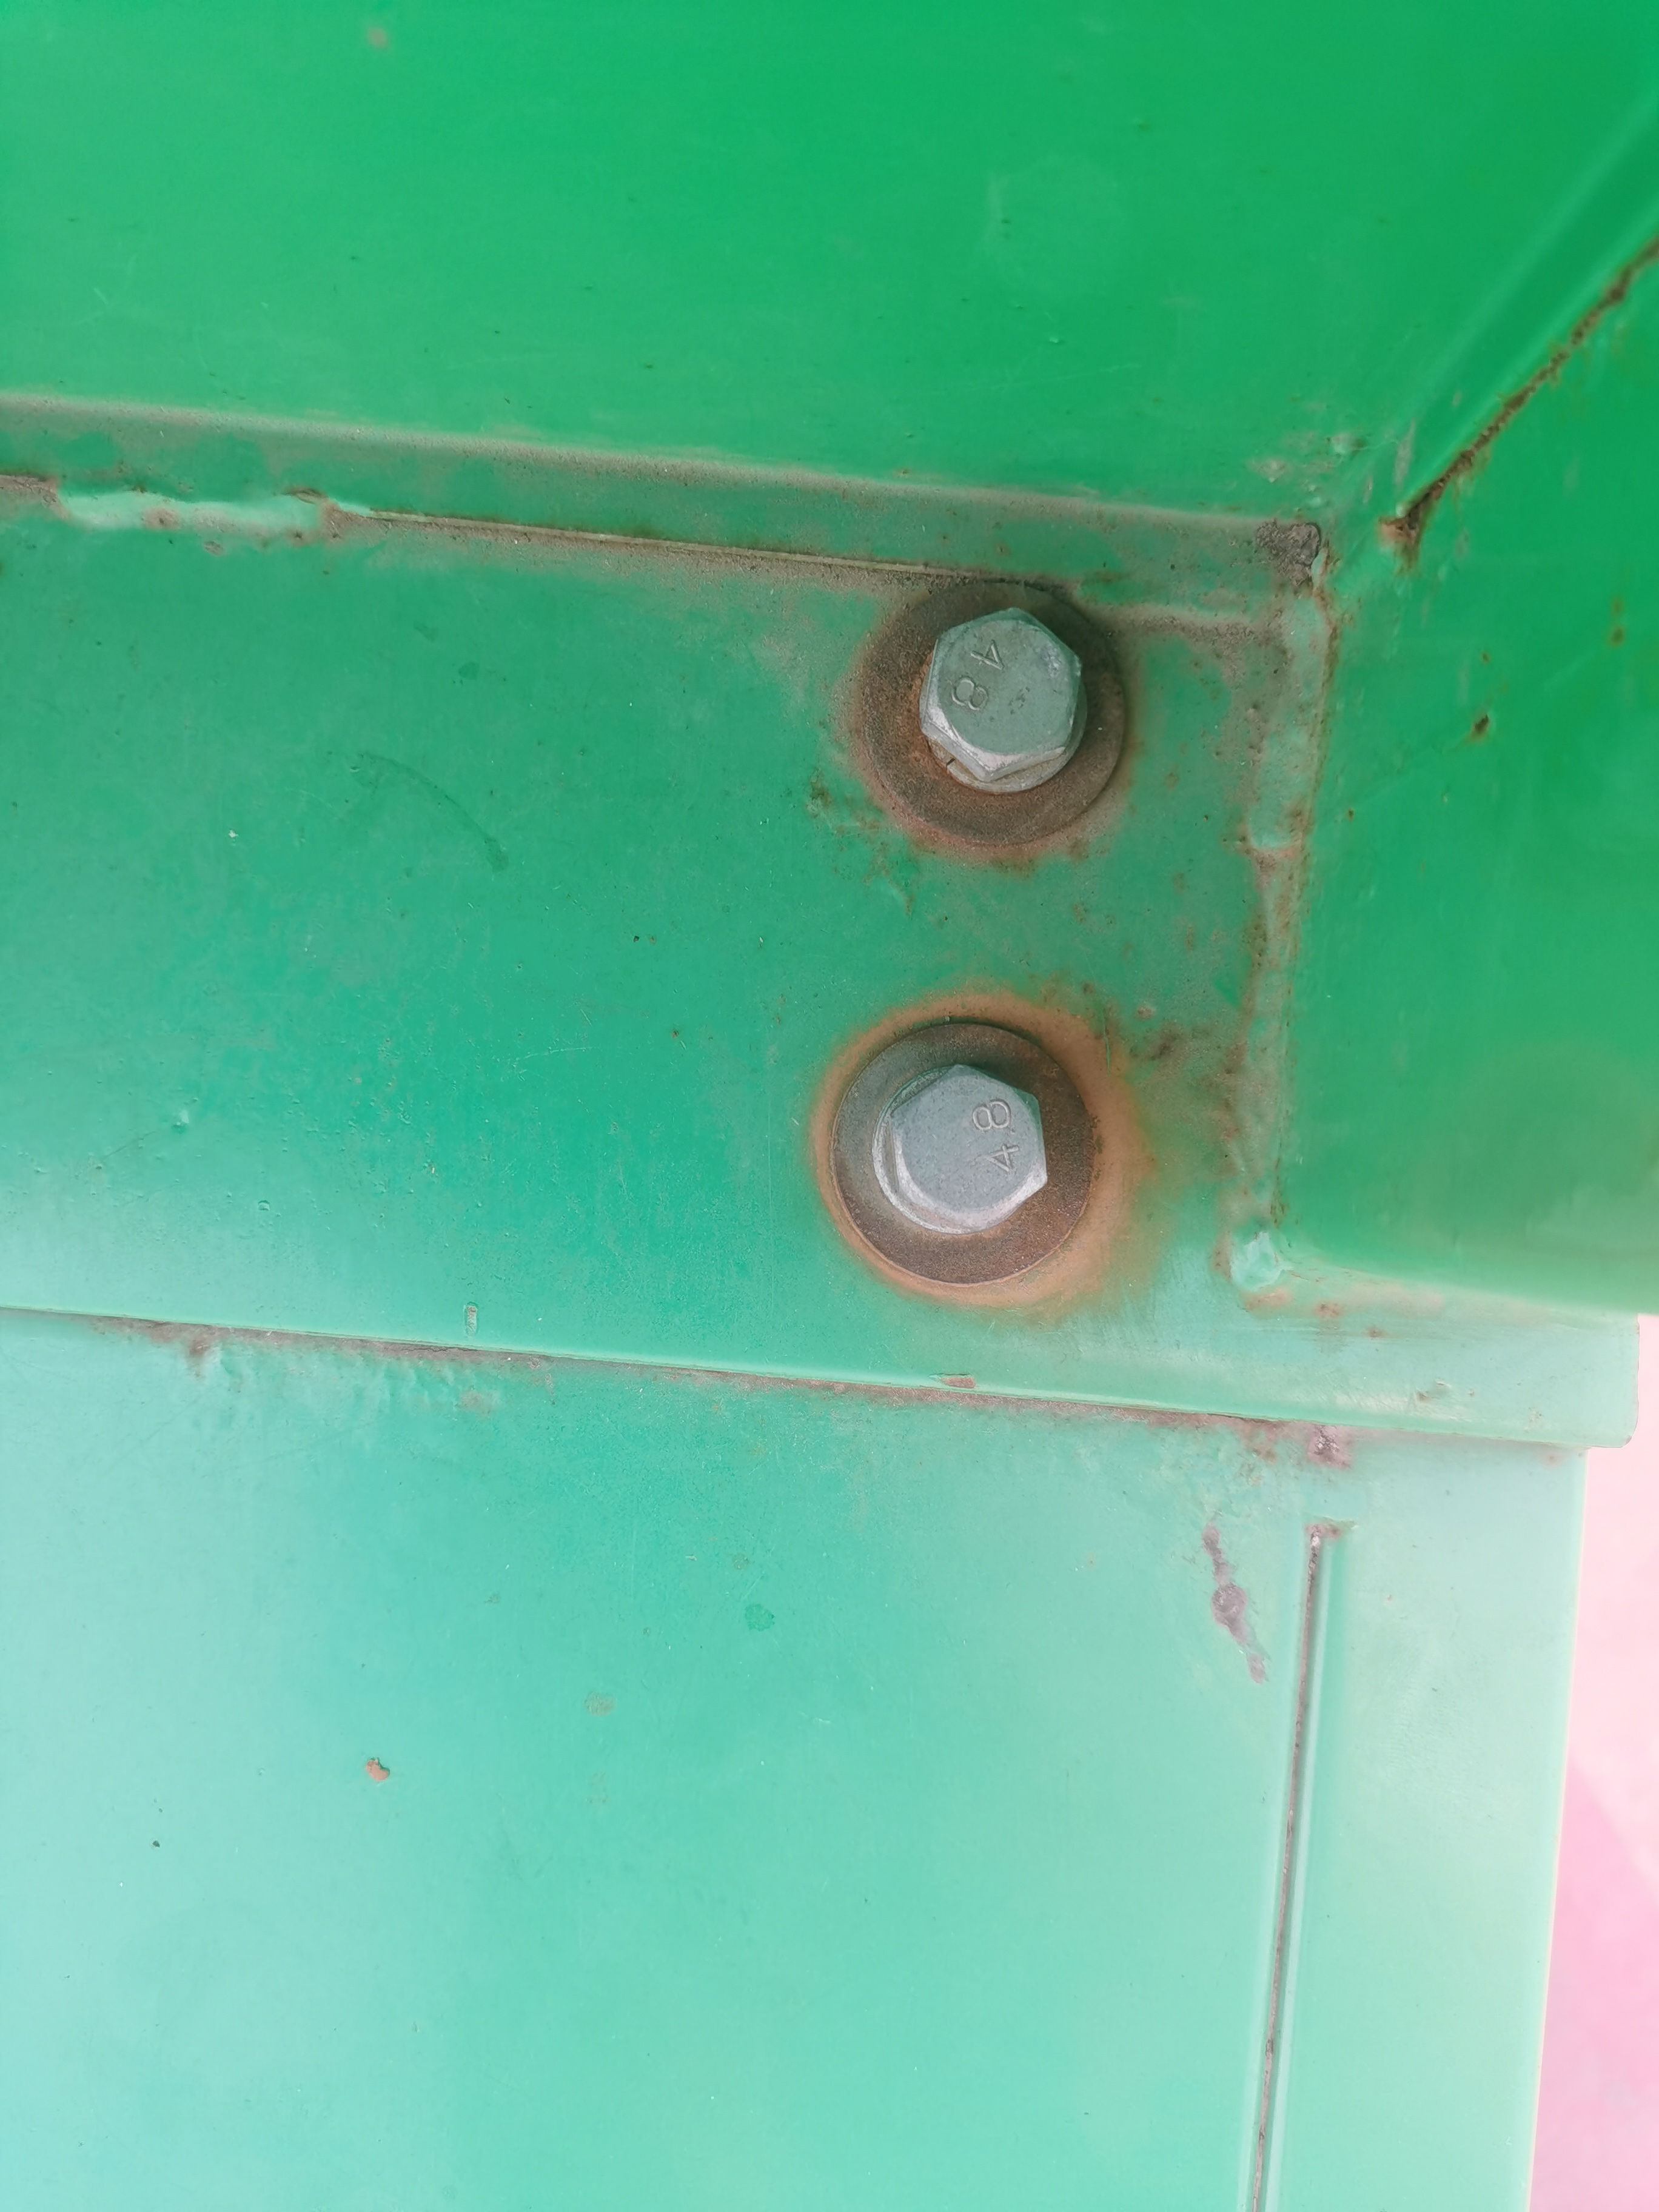bolt_a: (908, 594, 1093, 792), (877, 1054, 1056, 1244)
